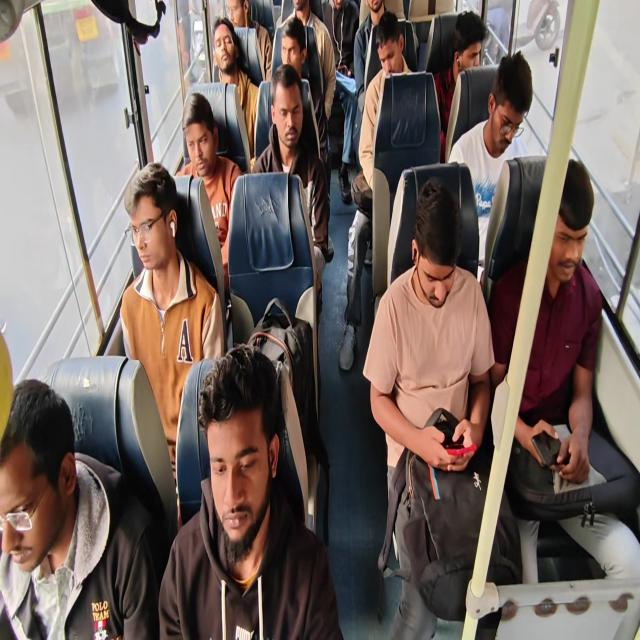person: (534, 146, 625, 337), (403, 196, 498, 361), (0, 378, 55, 640), (128, 172, 195, 369), (203, 397, 270, 538), (168, 86, 224, 198), (474, 73, 526, 161), (259, 71, 315, 144), (209, 12, 252, 102), (381, 18, 428, 90), (327, 3, 357, 68), (453, 21, 486, 78), (274, 29, 305, 81), (216, 0, 250, 36), (286, 0, 305, 21), (367, 0, 382, 24)
